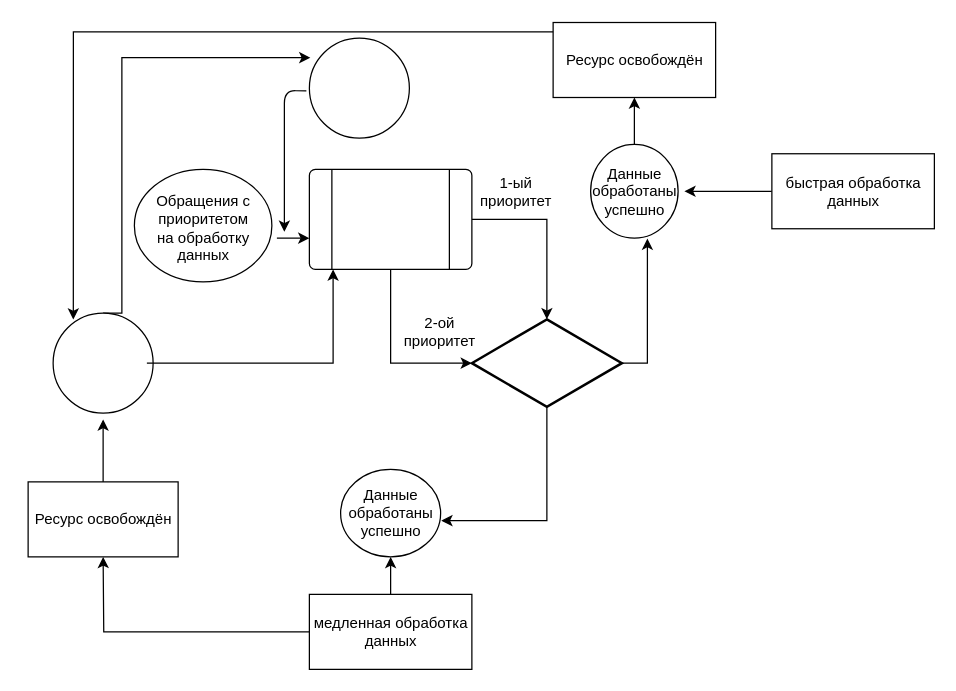
Image size: 956x691. Some labels were removed from this diagram. Each missing label, with the centre of its shape:
"выбор скорости" belongs at (x=546, y=363).
"Выделить ресурс" belongs at (x=102, y=362).
"запрос на обслуживания" belongs at (x=390, y=218).
"Ресурса нет отказ на обработку" belongs at (x=358, y=87).
